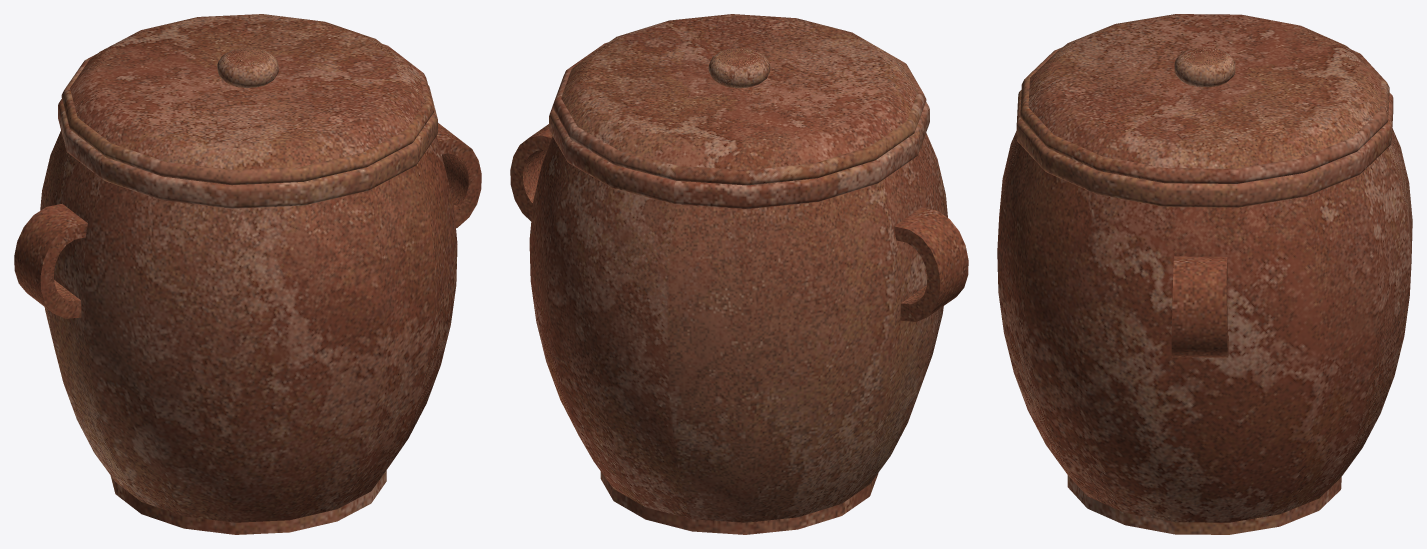
File: Large Lid Pot.fbx
3 views of the same model, side by side, from view 1: azimuth 30°, elevation 25°; view 2: azimuth 150°, elevation 25°; view 3: azimuth 270°, elevation 25° (orthographic).
Visible parts, largest first — view 1: Large_Pot_2; view 2: Large_Pot_2; view 3: Large_Pot_2.
Boxes of the visible parts, bbox=[...] form: Large_Pot_2: bbox=[14, 14, 481, 534]; Large_Pot_2: bbox=[510, 14, 968, 534]; Large_Pot_2: bbox=[997, 14, 1412, 534].
Bounding box in the file's own units: 111 × 102 × 91.49.
Materials: 1 (1 with a texture image).
